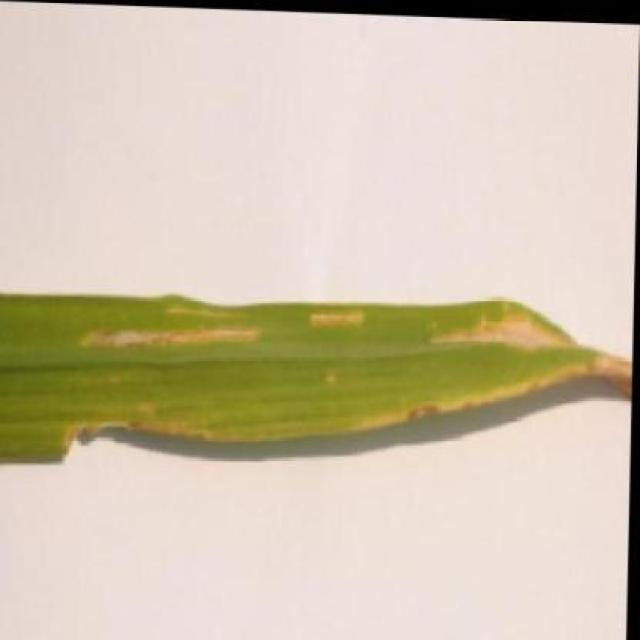Brown_Spot: (0, 273, 635, 491)
